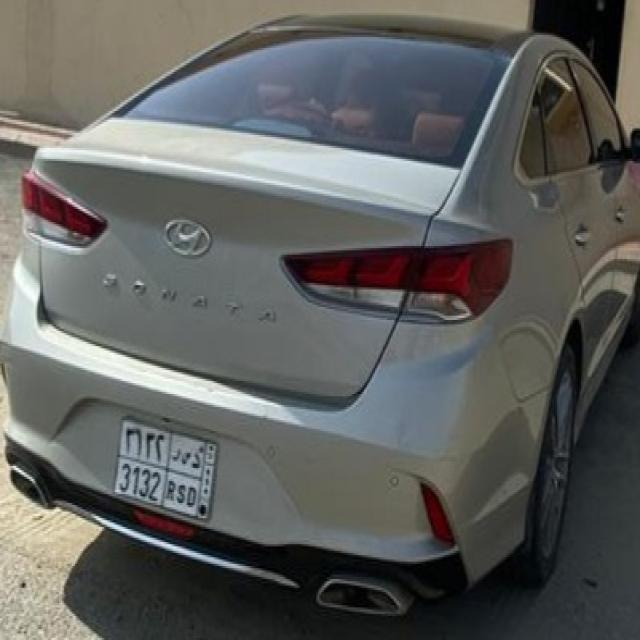license_plate: (110, 414, 219, 524)
